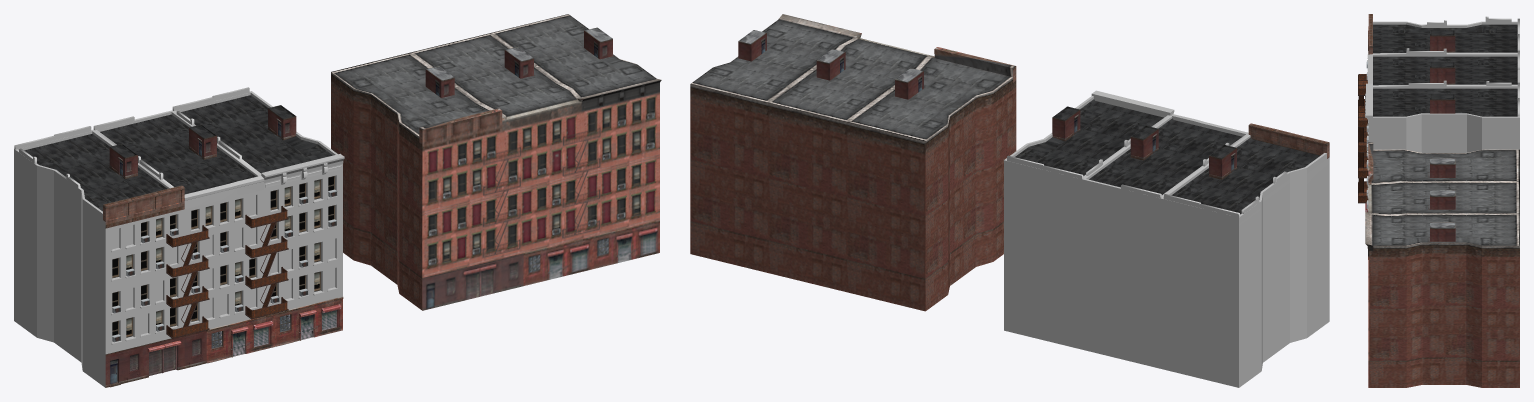
The picture shows the model from 3 angles, left to right: view 1: azimuth 30°, elevation 25°; view 2: azimuth 150°, elevation 25°; view 3: azimuth 270°, elevation 25°; orthographic projection. The views are drawn at different scales.
Parts seen in each view (by area): view 1: LOD_UBM_Tanner_Building_01_Lod_0, FACADE_UBM_Tanner_Building_01_UB_Tanner_BuildingFloor1_0, WALLS_UBM_Tanner_Building_01_BLD_TNR_Wall10_0, ROOF_UBM_Tanner_Building_01_BLD_TNR_Roof1_0, Windows_UBM_Tanner_Building_01_BLD_TNR_Windows2_0, ROOF_UBM_Tanner_Building_01_UB_Tanner_BuildingTrim1_0, Firestairs_UBM_Tanner_Building_01_BLD_TNR_MetalRails1_0, FIRST_FLOOR_MESH_1_UBM_Tanner_Building_01_UB_Tanner_Building, FIRST_FLOOR_MESH_2_UBM_Tanner_Building_01_UB_Tanner_Building, TRIM_MESH_1_UBM_Tanner_Building_01_UB_Tanner_BuildingTrim1_0, TRIM_MESH_2_UBM_Tanner_Building_01_BLD_TNR_Wall9_0, FIRST_FLOOR_MESH_3_UBM_Tanner_Building_01_UB_Tanner_Building (+4 smaller); view 2: LOD_UBM_Tanner_Building_01_Lod_0, WALLS_UBM_Tanner_Building_01_BLD_TNR_Wall10_0, ROOF_UBM_Tanner_Building_01_BLD_TNR_Roof1_0, ROOF_UBM_Tanner_Building_01_UB_Tanner_BuildingTrim1_0, ROOFEXIT_UBM_Tanner_Building_01_UB_Tanner_BuildingEnterance1, TRIM_MESH_1_UBM_Tanner_Building_01_UB_Tanner_BuildingTrim1_0, TRIM_MESH_2_UBM_Tanner_Building_01_BLD_TNR_Wall9_0, ROOFEXIT_UBM_Tanner_Building_01_BLD_TNR_Roof1_0; view 3: LOD_UBM_Tanner_Building_01_Lod_0, ROOF_UBM_Tanner_Building_01_BLD_TNR_Roof1_0, WALLS_UBM_Tanner_Building_01_BLD_TNR_Wall10_0, ROOF_UBM_Tanner_Building_01_UB_Tanner_BuildingTrim1_0, ROOFEXIT_UBM_Tanner_Building_01_UB_Tanner_BuildingEnterance1, Firestairs_UBM_Tanner_Building_01_BLD_TNR_MetalRails1_0, ROOFEXIT_UBM_Tanner_Building_01_BLD_TNR_Roof1_0, TRIM_MESH_1_UBM_Tanner_Building_01_UB_Tanner_BuildingTrim1_0, Firestairs_UBM_Tanner_Building_01_SP_TNR_Airvents1_0, TRIM_MESH_2_UBM_Tanner_Building_01_BLD_TNR_Wall9_0, Aircons_UBM_Tanner_Building_01_SP_TNR_Airvents1_0.
Boxes of the visible parts, x1,y1,x2,y2 form: LOD_UBM_Tanner_Building_01_Lod_0: (331,14,661,310); FACADE_UBM_Tanner_Building_01_UB_Tanner_BuildingFloor1_0: (105,170,342,354); WALLS_UBM_Tanner_Building_01_BLD_TNR_Wall10_0: (14,155,105,387); ROOF_UBM_Tanner_Building_01_BLD_TNR_Roof1_0: (24,95,332,211); Windows_UBM_Tanner_Building_01_BLD_TNR_Windows2_0: (112,176,334,337); ROOF_UBM_Tanner_Building_01_UB_Tanner_BuildingTrim1_0: (14,87,337,219); Firestairs_UBM_Tanner_Building_01_BLD_TNR_MetalRails1_0: (167,207,287,337); FIRST_FLOOR_MESH_1_UBM_Tanner_Building_01_UB_Tanner_Building: (105,330,206,387); FIRST_FLOOR_MESH_2_UBM_Tanner_Building_01_UB_Tanner_Building: (147,303,316,363); TRIM_MESH_1_UBM_Tanner_Building_01_UB_Tanner_BuildingTrim1_0: (184,153,344,208); TRIM_MESH_2_UBM_Tanner_Building_01_BLD_TNR_Wall9_0: (103,185,184,228); FIRST_FLOOR_MESH_3_UBM_Tanner_Building_01_UB_Tanner_Building: (246,296,343,353); LOD_UBM_Tanner_Building_01_Lod_0: (690,14,1016,311); WALLS_UBM_Tanner_Building_01_BLD_TNR_Wall10_0: (1004,157,1329,387); ROOF_UBM_Tanner_Building_01_BLD_TNR_Roof1_0: (1015,99,1319,214); ROOF_UBM_Tanner_Building_01_UB_Tanner_BuildingTrim1_0: (1004,96,1326,223); ROOFEXIT_UBM_Tanner_Building_01_UB_Tanner_BuildingEnterance1: (1052,110,1237,179); TRIM_MESH_1_UBM_Tanner_Building_01_UB_Tanner_BuildingTrim1_0: (1091,90,1248,136); TRIM_MESH_2_UBM_Tanner_Building_01_BLD_TNR_Wall9_0: (1248,123,1329,158); ROOFEXIT_UBM_Tanner_Building_01_BLD_TNR_Roof1_0: (1052,106,1236,158); LOD_UBM_Tanner_Building_01_Lod_0: (1365,142,1519,387); ROOF_UBM_Tanner_Building_01_BLD_TNR_Roof1_0: (1373,24,1517,116); WALLS_UBM_Tanner_Building_01_BLD_TNR_Wall10_0: (1368,119,1519,152); ROOF_UBM_Tanner_Building_01_UB_Tanner_BuildingTrim1_0: (1373,16,1519,122); ROOFEXIT_UBM_Tanner_Building_01_UB_Tanner_BuildingEnterance1: (1429,35,1455,113); Firestairs_UBM_Tanner_Building_01_BLD_TNR_MetalRails1_0: (1358,74,1367,202); ROOFEXIT_UBM_Tanner_Building_01_BLD_TNR_Roof1_0: (1430,30,1455,99); TRIM_MESH_1_UBM_Tanner_Building_01_UB_Tanner_BuildingTrim1_0: (1365,54,1372,125); Firestairs_UBM_Tanner_Building_01_SP_TNR_Airvents1_0: (1358,74,1368,203); TRIM_MESH_2_UBM_Tanner_Building_01_BLD_TNR_Wall9_0: (1368,14,1372,54); Aircons_UBM_Tanner_Building_01_SP_TNR_Airvents1_0: (1366,61,1368,208).
Bounding box in the file's own units: 70.01 × 22.82 × 21.38.
